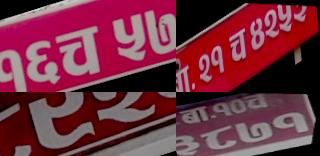0: (225, 97, 251, 115)
1: (0, 40, 38, 92), (267, 109, 314, 138), (208, 38, 229, 86), (211, 101, 235, 118)
2: (80, 92, 167, 136), (260, 3, 282, 47), (195, 46, 216, 92)
3: (176, 132, 208, 156), (288, 4, 310, 30)
4: (246, 12, 268, 56)
5: (103, 6, 158, 68), (274, 4, 297, 40)
6: (15, 31, 71, 92)
7: (136, 0, 176, 59), (231, 115, 281, 146)
8: (0, 96, 45, 156), (197, 124, 244, 153)
9: (20, 92, 107, 156)
ba: (176, 104, 214, 127), (176, 59, 197, 92)
cha: (48, 17, 117, 87), (226, 22, 251, 70), (240, 92, 271, 112)
